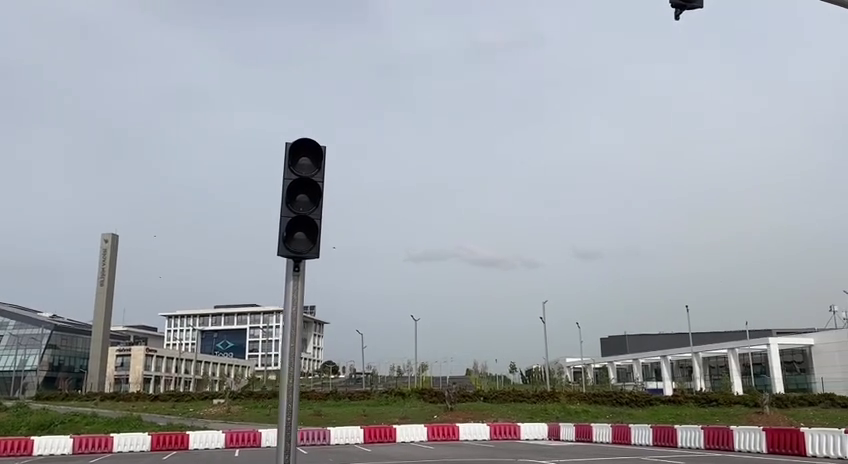trafficLight: (272, 131, 329, 267)
